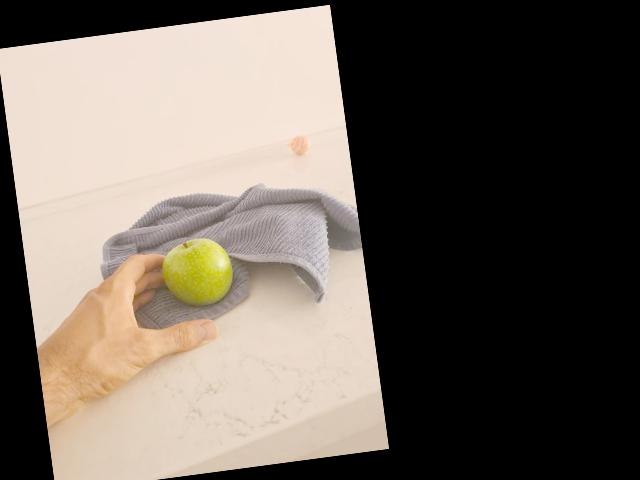apple: (160, 234, 232, 312)
